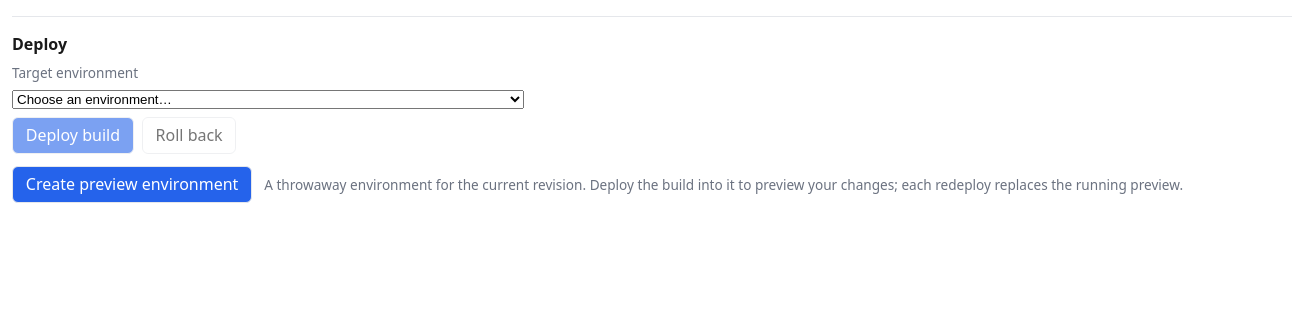
Scenario: DeployPanel › deploys the build to the chosen environment and forwards the build id to Cloud
This screenshot has width=1292, height=329.
Select "staging (persistent)" in the dropdown labelled "Target environment": x=268, y=100 [12,90,524,109]
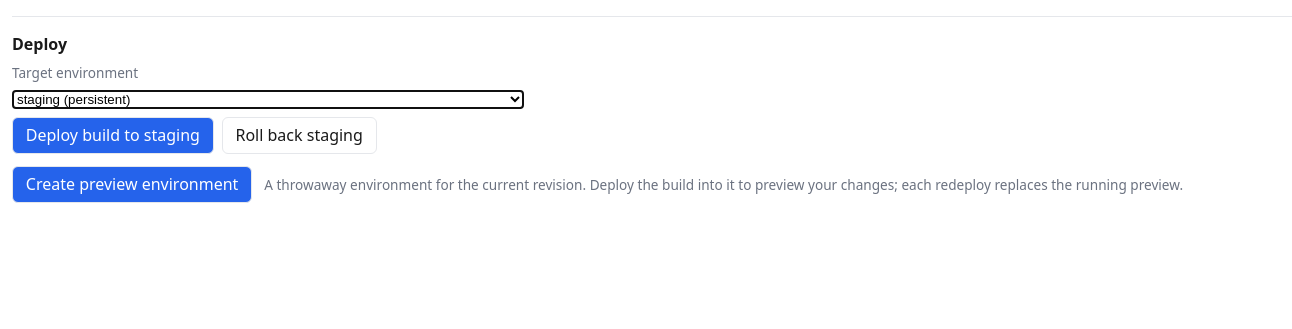
Click the button "Deploy build to staging": x=113, y=135 [12,117,214,154]
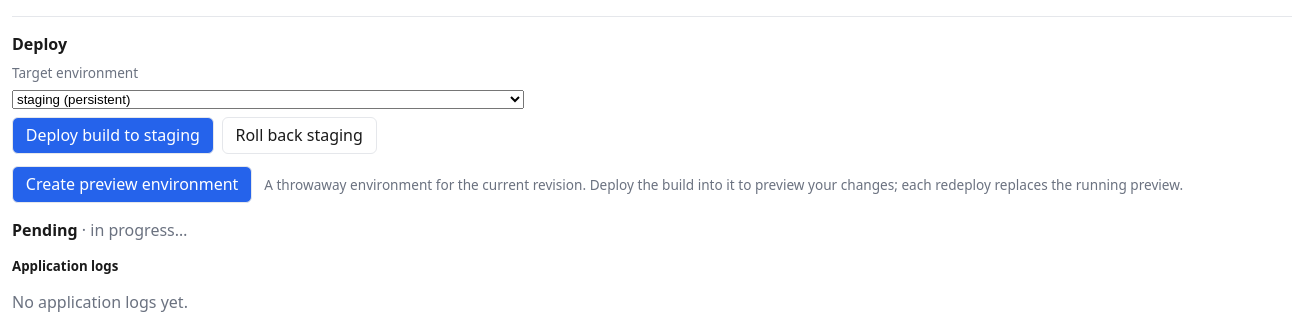
Now the element named "Deployment status" shows "Pending", box [12,219,78,241]
